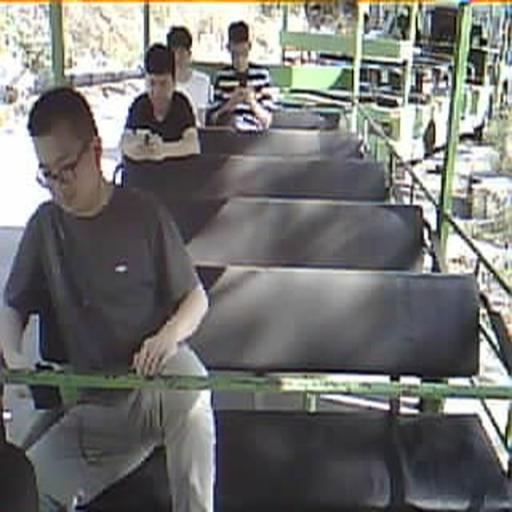persona: (1, 85, 217, 510), (120, 42, 202, 163), (206, 20, 276, 134), (165, 25, 208, 123)
